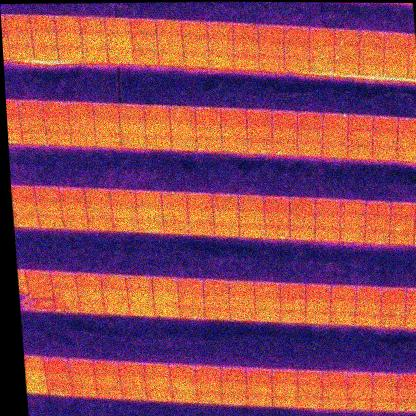Hotspot: (333, 43, 360, 61), (333, 29, 360, 46), (323, 113, 349, 130), (308, 42, 334, 59), (289, 225, 316, 241), (339, 227, 366, 243), (264, 224, 290, 240), (27, 284, 54, 299), (53, 299, 80, 314), (380, 300, 407, 315), (247, 139, 273, 154), (364, 229, 390, 244), (28, 298, 54, 313), (309, 59, 335, 74), (358, 60, 384, 75), (271, 141, 298, 155), (388, 216, 415, 230), (346, 145, 372, 159), (13, 214, 39, 228), (178, 292, 204, 306), (297, 395, 323, 409), (365, 216, 390, 230), (223, 391, 248, 405), (47, 382, 73, 395), (179, 305, 204, 318), (205, 306, 230, 319), (379, 314, 405, 326), (395, 399, 416, 412)
Normal: (196, 135, 223, 153), (54, 14, 81, 32), (346, 129, 374, 146), (238, 221, 266, 238), (348, 115, 374, 133), (56, 30, 82, 48), (169, 106, 196, 123), (321, 128, 348, 145), (339, 213, 366, 230), (236, 209, 264, 225), (121, 133, 147, 150), (4, 13, 30, 30), (359, 30, 385, 47), (383, 32, 409, 49), (194, 107, 221, 123), (372, 116, 399, 132), (295, 128, 322, 144), (70, 131, 97, 147), (95, 133, 122, 149), (212, 194, 239, 210), (263, 195, 290, 211), (339, 199, 366, 215), (206, 22, 233, 38), (258, 25, 285, 41), (305, 310, 332, 326), (8, 44, 35, 60), (259, 55, 286, 71), (313, 225, 341, 240), (304, 299, 332, 314), (17, 101, 43, 117), (68, 102, 94, 118), (93, 103, 119, 119), (220, 108, 246, 124), (272, 112, 298, 128), (297, 113, 323, 129), (119, 119, 145, 135), (170, 122, 196, 138), (371, 144, 397, 160), (29, 15, 55, 31), (136, 190, 162, 206), (314, 197, 340, 213), (365, 200, 391, 216), (80, 16, 106, 32), (63, 214, 89, 230), (105, 17, 131, 33), (163, 219, 189, 235), (213, 221, 239, 237), (130, 19, 156, 35), (156, 20, 182, 36), (182, 21, 208, 37), (232, 24, 258, 40), (6, 29, 32, 45), (106, 33, 132, 49), (132, 34, 158, 50), (272, 393, 298, 409), (283, 41, 309, 57), (108, 47, 134, 63), (133, 49, 159, 65), (284, 56, 310, 72), (333, 60, 359, 76), (144, 106, 171, 121), (19, 116, 46, 131), (68, 117, 95, 132), (144, 121, 171, 136), (195, 123, 222, 138), (20, 130, 47, 145), (372, 131, 399, 146), (170, 136, 197, 151), (288, 197, 315, 212), (12, 200, 39, 215), (86, 203, 113, 218), (263, 210, 290, 225), (87, 216, 114, 231), (137, 217, 164, 232), (152, 277, 179, 292), (254, 282, 281, 297), (330, 286, 357, 301), (203, 292, 230, 307), (103, 301, 130, 316), (232, 40, 259, 55), (83, 47, 110, 62), (308, 27, 333, 43), (358, 46, 383, 62), (119, 105, 145, 120), (246, 110, 272, 125), (44, 117, 70, 132), (220, 124, 246, 139), (246, 124, 272, 139), (222, 138, 248, 153), (322, 144, 348, 159), (34, 186, 60, 201), (84, 188, 110, 203), (187, 193, 213, 208), (390, 202, 416, 217), (213, 209, 239, 224), (113, 217, 139, 232), (76, 274, 102, 289), (280, 283, 306, 298), (356, 286, 382, 301), (153, 290, 179, 305), (79, 300, 105, 315), (154, 303, 180, 318), (283, 27, 309, 42), (31, 31, 57, 46), (81, 32, 107, 47), (96, 384, 122, 399), (208, 38, 234, 53), (57, 47, 83, 62), (183, 51, 209, 66), (93, 118, 120, 132), (271, 127, 298, 141), (160, 192, 187, 206), (60, 202, 87, 216), (136, 205, 163, 219), (161, 207, 188, 221), (38, 214, 65, 228), (314, 212, 341, 226), (387, 229, 414, 243), (126, 277, 153, 291), (52, 287, 79, 301), (76, 288, 103, 302), (127, 290, 154, 304), (128, 303, 155, 317), (329, 312, 356, 326), (169, 365, 196, 379), (258, 41, 285, 55), (233, 56, 260, 70), (46, 130, 71, 145), (59, 187, 84, 202), (183, 37, 208, 52), (383, 62, 408, 77), (43, 103, 69, 117), (297, 143, 323, 157), (110, 191, 136, 205), (111, 204, 137, 218), (187, 208, 213, 222), (289, 212, 315, 226), (51, 274, 77, 288), (177, 279, 203, 293), (228, 281, 254, 295), (305, 286, 331, 300), (380, 287, 406, 301), (229, 294, 255, 308), (230, 307, 256, 321), (255, 308, 281, 322), (280, 309, 306, 323), (94, 360, 120, 374), (119, 362, 145, 376), (347, 373, 373, 387), (146, 388, 172, 402), (171, 390, 199, 403), (157, 36, 183, 50), (33, 46, 59, 60), (158, 51, 184, 65), (11, 185, 35, 200), (36, 202, 63, 215), (100, 277, 127, 290), (253, 297, 280, 310), (245, 368, 272, 381), (271, 369, 298, 382), (296, 370, 323, 383), (271, 382, 298, 395), (346, 386, 373, 399), (370, 398, 397, 411), (146, 136, 171, 150), (189, 221, 214, 235), (280, 297, 305, 311), (355, 300, 380, 314), (355, 313, 380, 327), (322, 371, 347, 385), (297, 383, 322, 397), (247, 393, 272, 407), (383, 48, 408, 62), (209, 54, 234, 68), (238, 197, 264, 210), (25, 272, 51, 285), (203, 280, 229, 293), (68, 359, 94, 372), (220, 368, 246, 381), (170, 378, 196, 391), (246, 380, 272, 393), (72, 385, 98, 398), (121, 387, 147, 400), (331, 300, 356, 313), (71, 372, 96, 385), (121, 375, 146, 388), (371, 385, 396, 398), (198, 391, 223, 404), (101, 289, 128, 301), (195, 379, 222, 391), (321, 397, 348, 409), (396, 146, 416, 162), (45, 370, 71, 382), (95, 374, 121, 386), (346, 397, 372, 409), (397, 117, 416, 133), (397, 131, 416, 147), (45, 358, 70, 370), (145, 365, 170, 377), (196, 367, 221, 379), (322, 385, 347, 397), (371, 374, 398, 385), (220, 381, 247, 392), (146, 378, 170, 389), (396, 373, 416, 386), (396, 386, 416, 399), (404, 313, 416, 327), (405, 287, 416, 302), (404, 302, 416, 315)
